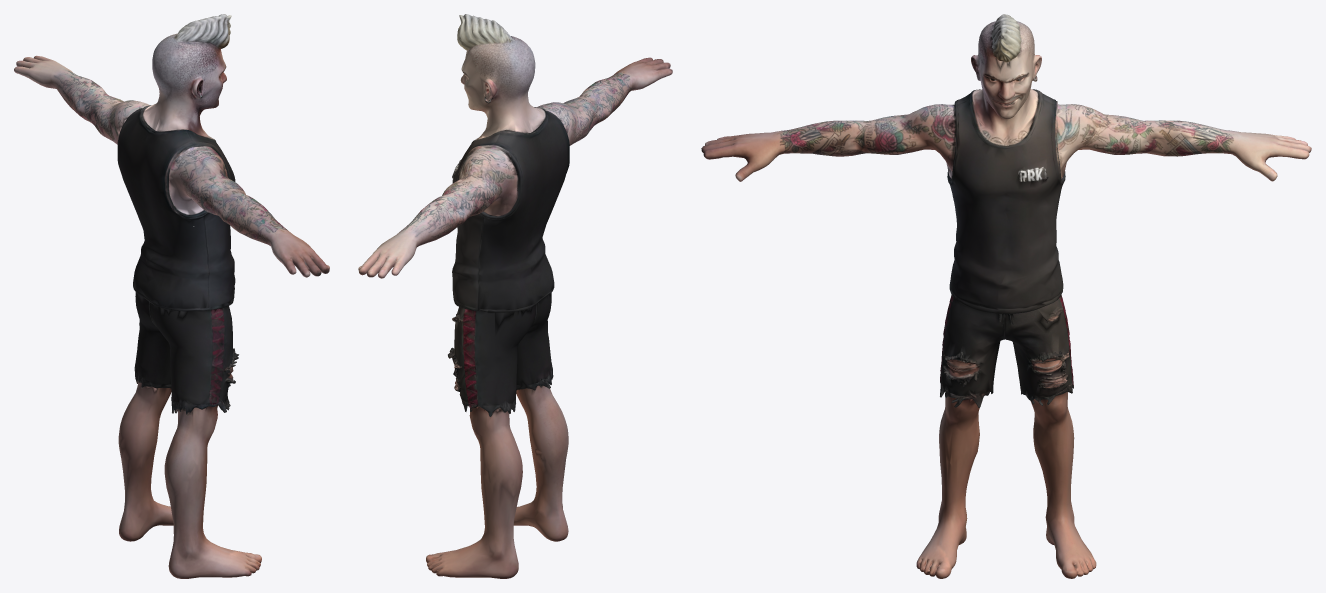
Rendered from the-shredder.glb.
3 renders of one model, left to right at view 1: azimuth 30°, elevation 25°; view 2: azimuth 150°, elevation 25°; view 3: azimuth 270°, elevation 25°, orthographic. The views are drawn at different scales.
Visible parts, largest first — view 1: the-shredder; view 2: the-shredder; view 3: the-shredder.
Part boxes in pixels (bbox=[...]): the-shredder: bbox=[14, 14, 329, 578]; the-shredder: bbox=[358, 14, 672, 578]; the-shredder: bbox=[701, 14, 1311, 578].
Size of the model in its own units: 0.1763 by 0.9778 by 0.9839.
1 material, 1 textured.
